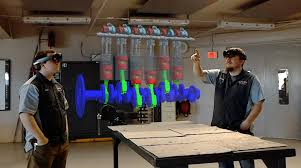hololens: (28, 53, 66, 73), (221, 47, 248, 61)
